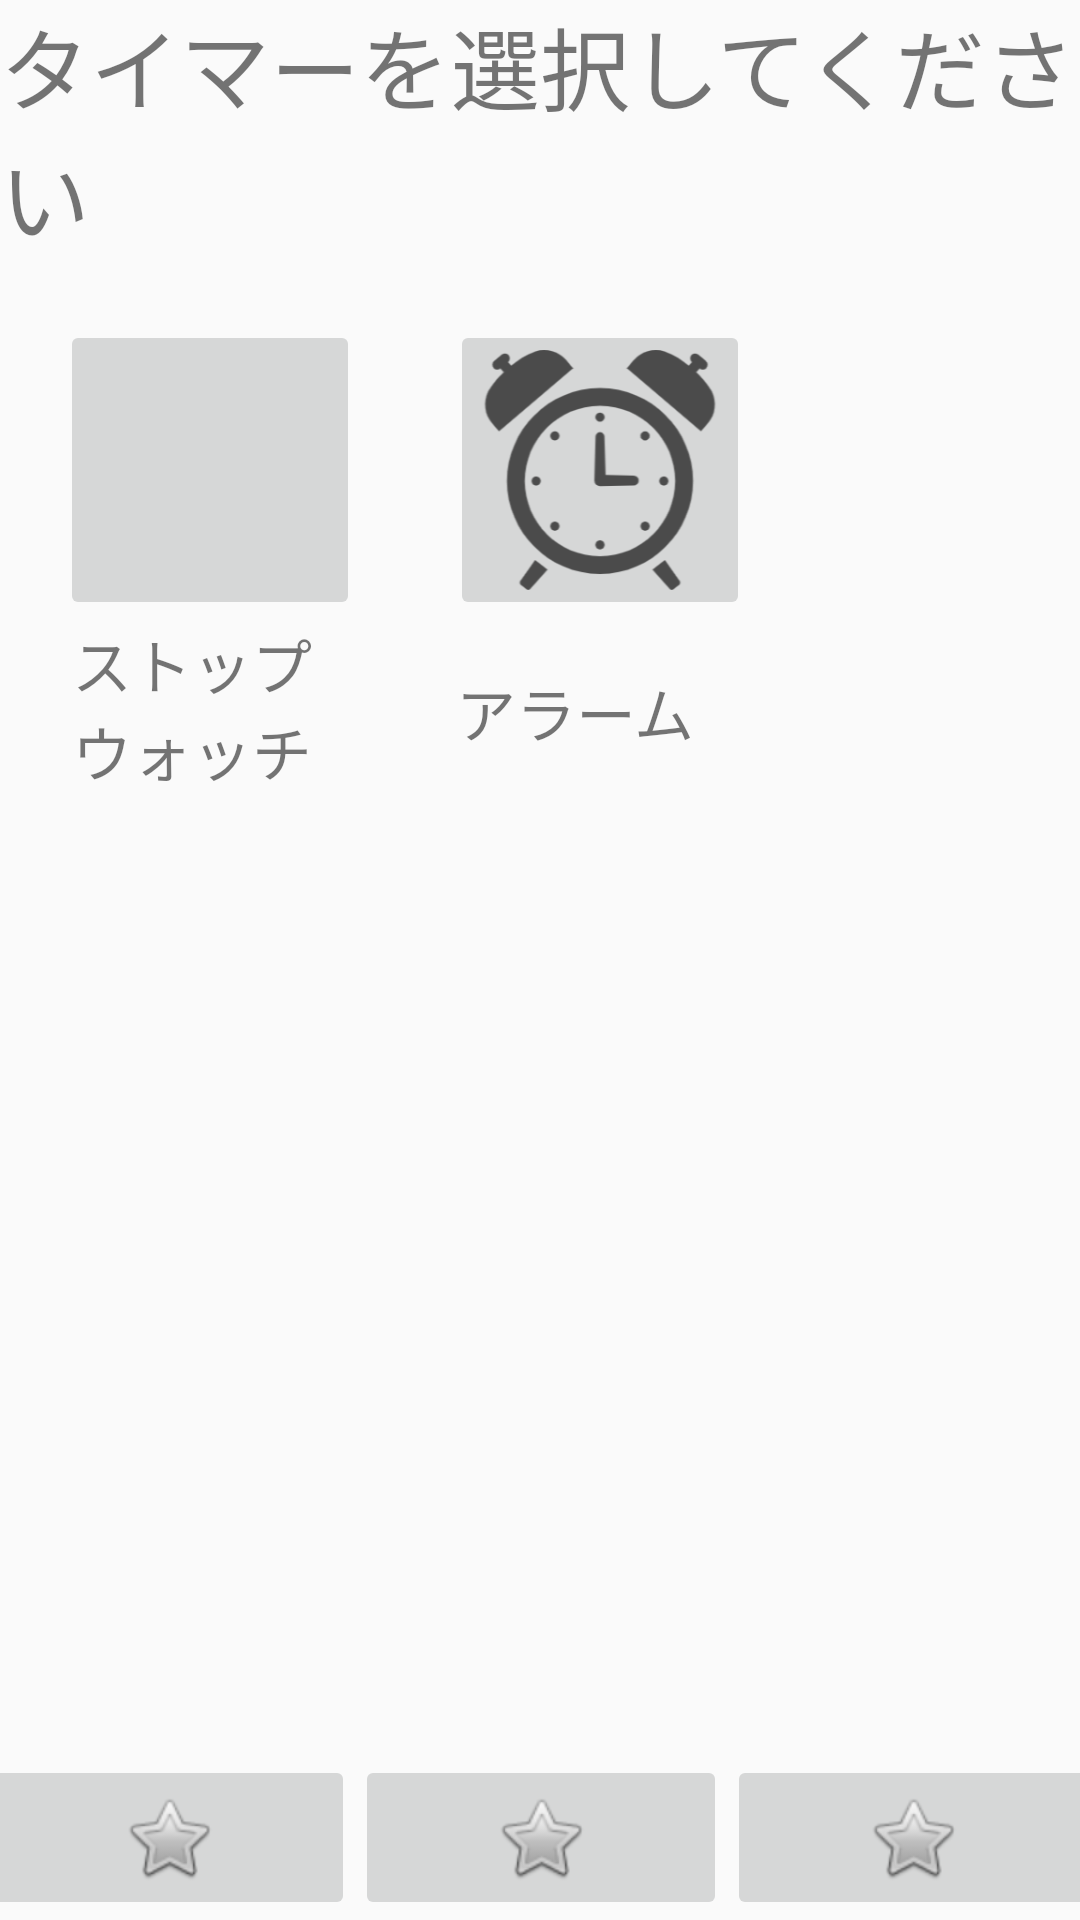

Named icons in this screenshot (1080w x 1920h) and their centers, (x=x, y=y):
star: (x=171, y=1837), (x=541, y=1837), (x=909, y=1837)
